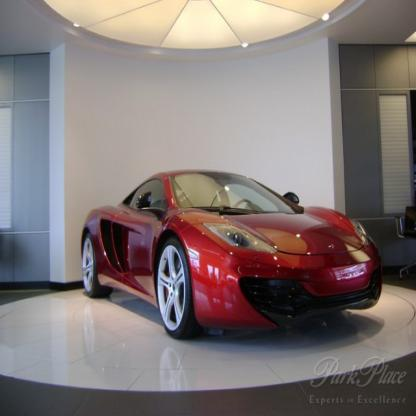Vehicle: (79, 167, 387, 341)
